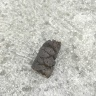Dog: (31, 39, 61, 78)
